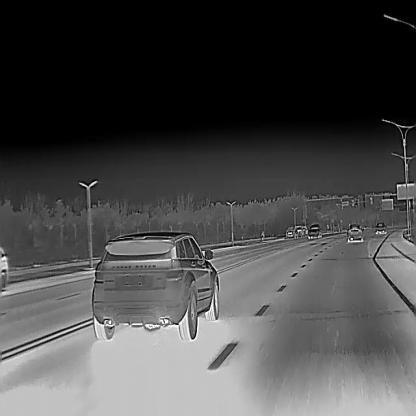car: (90, 229, 220, 340), (346, 224, 364, 242), (307, 223, 321, 238), (375, 222, 387, 234), (286, 226, 296, 237), (295, 224, 304, 236)
